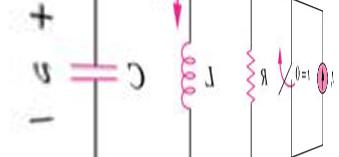resistor: (235, 41, 265, 113)
